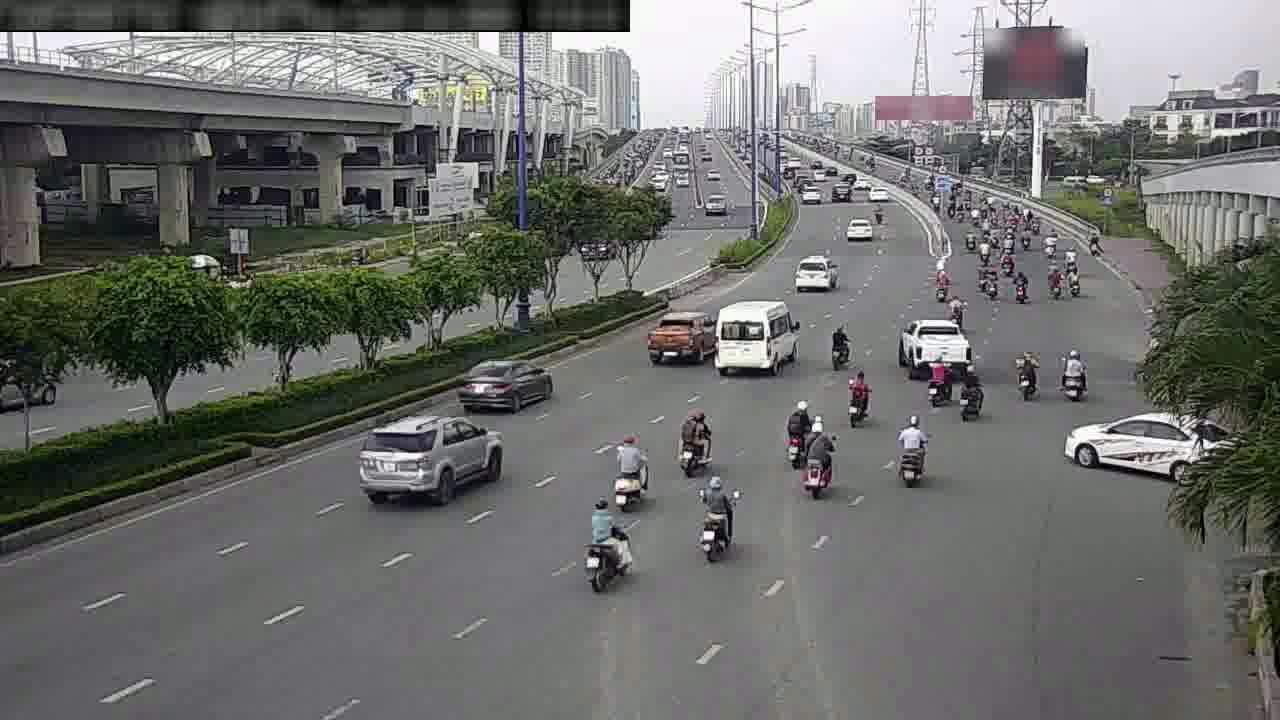car: (1046, 405, 1242, 487), (350, 420, 508, 509), (456, 351, 561, 417), (638, 304, 719, 364), (888, 320, 980, 370)
motorbike: (577, 494, 640, 592), (597, 429, 667, 499), (691, 469, 745, 553), (793, 417, 844, 497), (667, 407, 723, 473), (896, 423, 948, 489), (771, 400, 813, 458), (828, 310, 854, 380), (838, 379, 870, 427), (979, 264, 1006, 310), (1040, 262, 1063, 310), (1059, 266, 1085, 297), (931, 267, 951, 305), (1013, 268, 1027, 302), (972, 256, 985, 289)
passenger_car: (701, 276, 793, 377)
